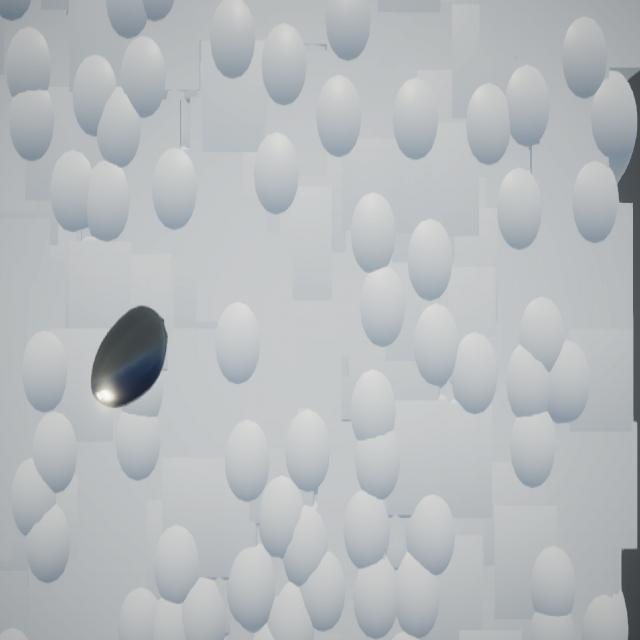top_spoon: (92, 307, 169, 409)
